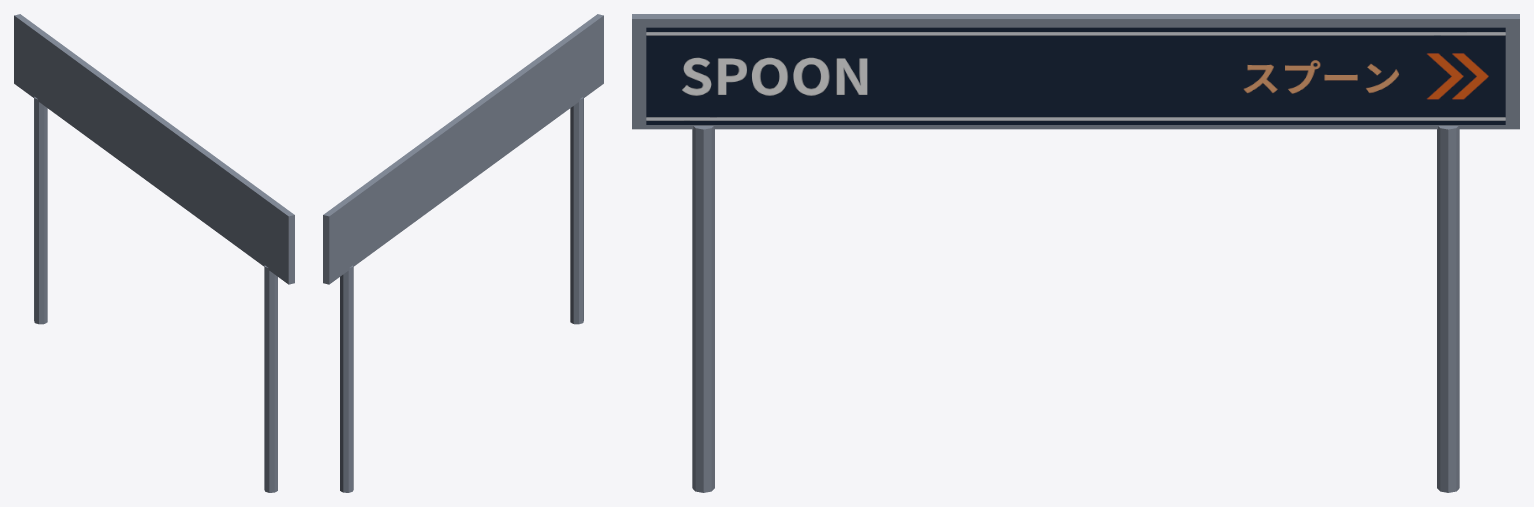
Rendered from corner_sign_spoon.glb.
3 renders of one model, left to right at view 1: azimuth 30°, elevation 25°; view 2: azimuth 150°, elevation 25°; view 3: azimuth 270°, elevation 25°, orthographic. The views are drawn at different scales.
Parts seen in each view (by area): view 1: cornersign; view 2: cornersign; view 3: cornersign.
Part boxes in pixels (bbox=[...]): cornersign: bbox=[14, 14, 294, 492]; cornersign: bbox=[323, 14, 603, 492]; cornersign: bbox=[632, 14, 1519, 492].
Size of the model in its own units: 0.16 by 3.62 by 6.2.
2 materials, 1 textured.
